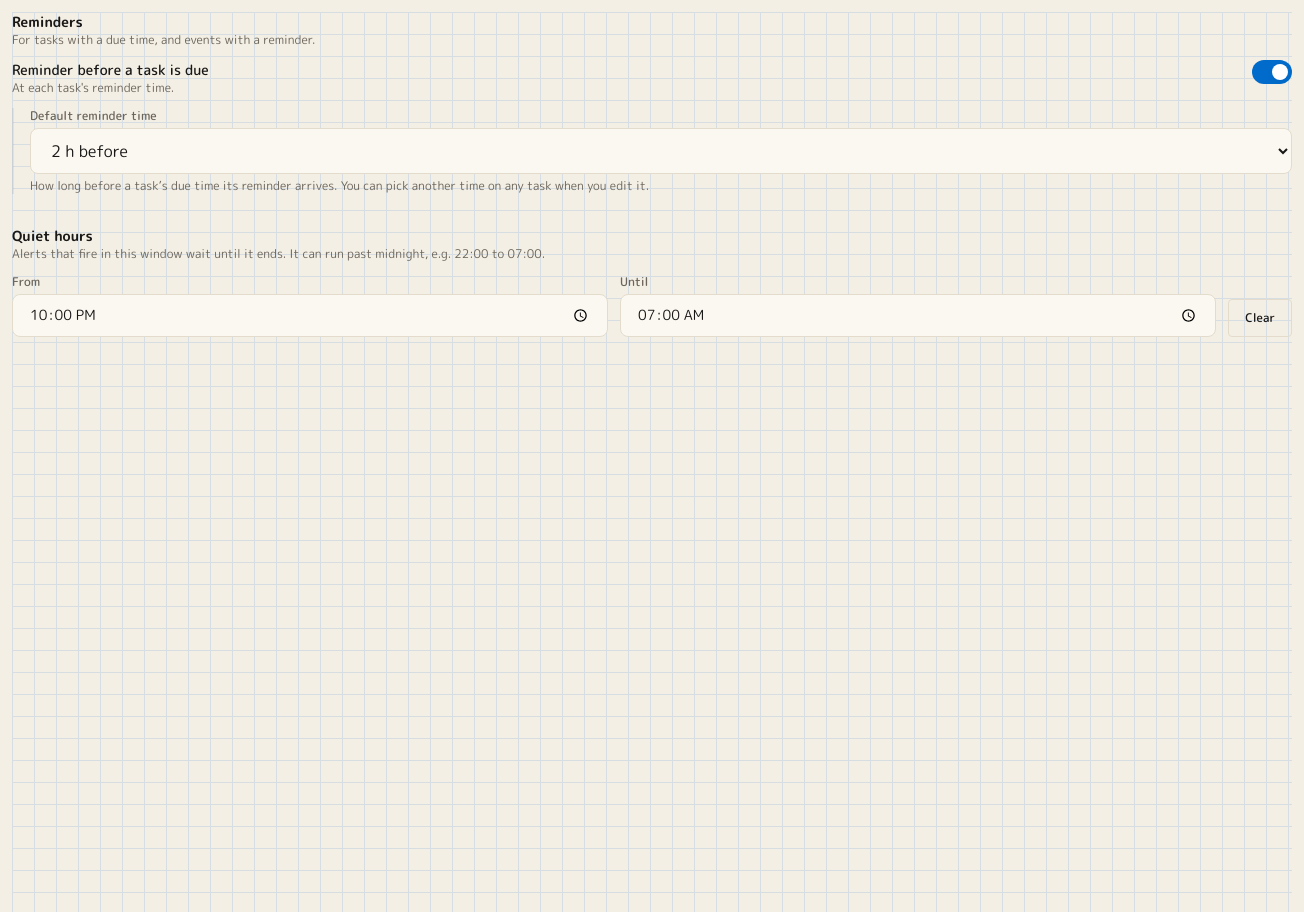
NotificationPreferencesForm › clears quiet hours by sending both as null
The image size is (1304, 912).
Click the button "Clear" at (1260, 318), box top-left (1228, 299), bottom-right (1292, 337)
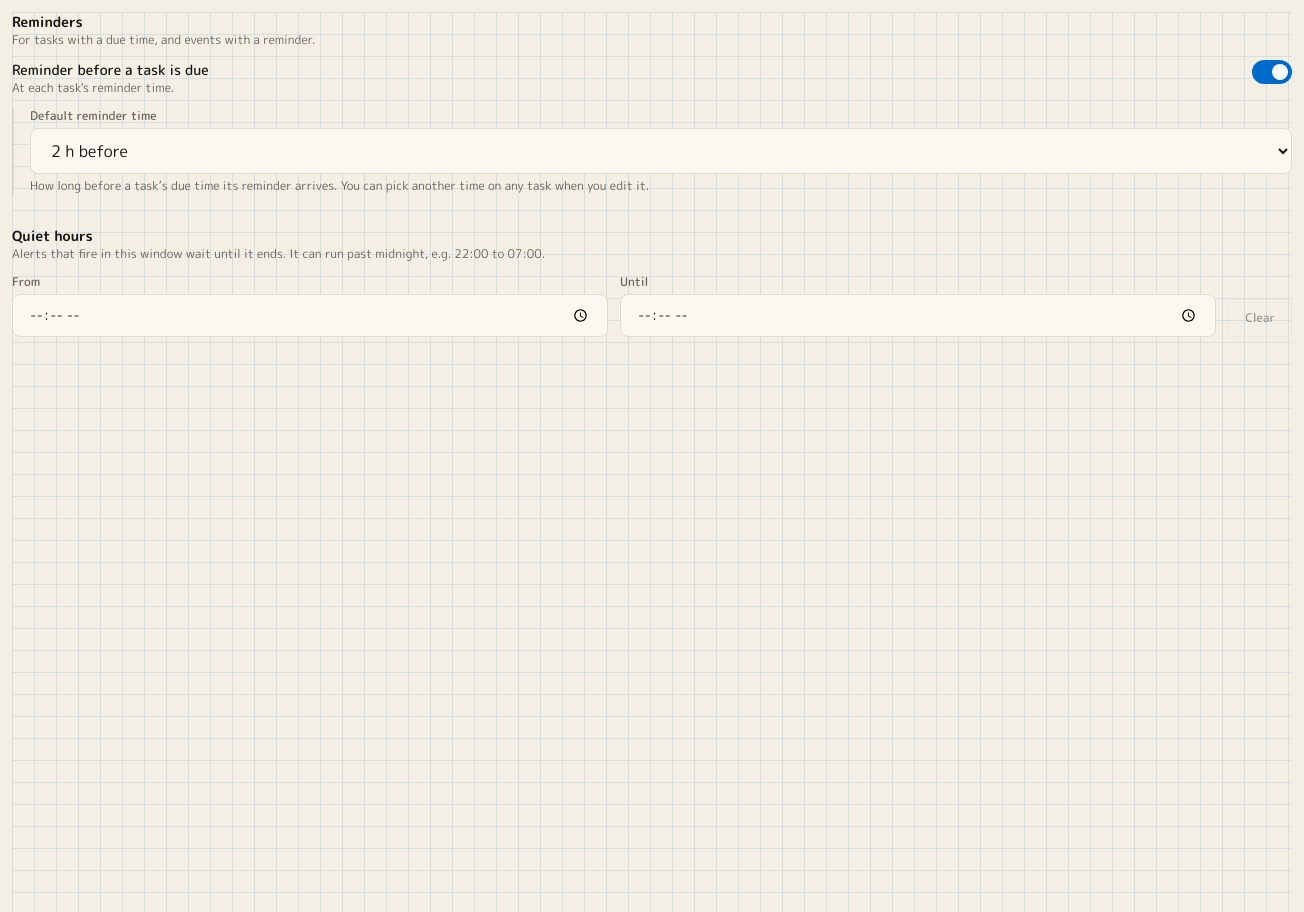
Expected: the time field labelled "From" is empty, top-left (12, 294), bottom-right (608, 337)
